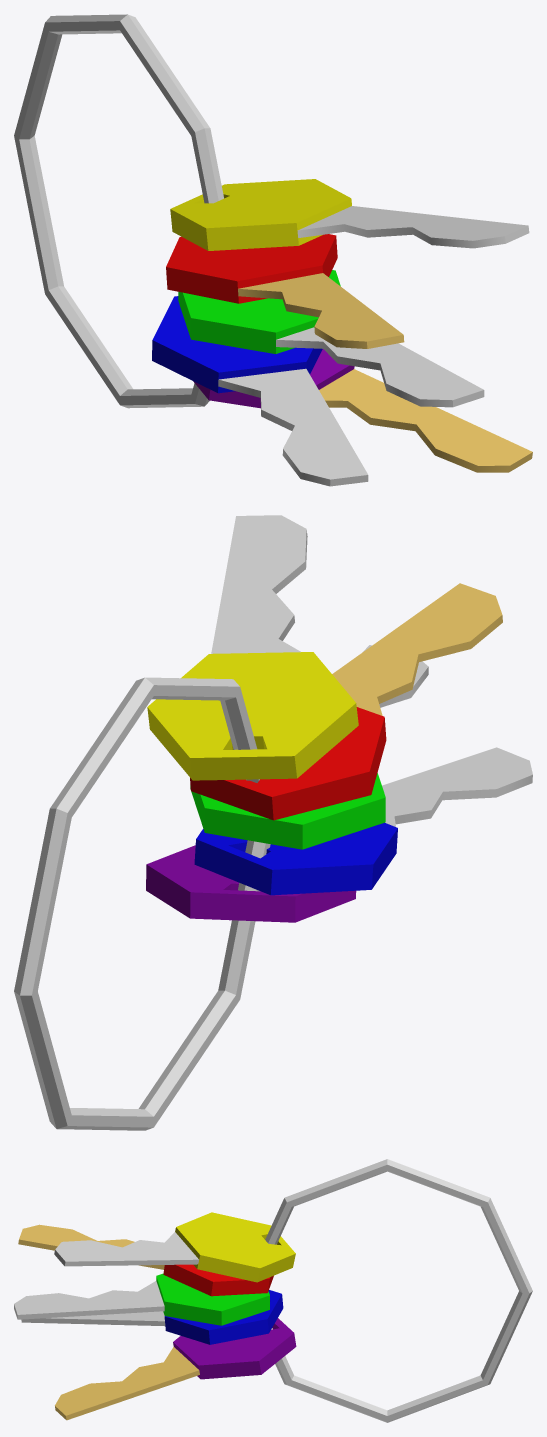
Rendered from Keys.fbx.
3 renders of one model, top to bottom at view 1: azimuth 30°, elevation 25°; view 2: azimuth 150°, elevation 25°; view 3: azimuth 270°, elevation 25°, orthographic. The views are drawn at different scales.
Parts seen in each view (by area): view 1: pTorus1, pCylinder4, pCylinder2, pCylinder3, pCylinder1, pCylinder5; view 2: pCylinder4, pTorus1, pCylinder3, pCylinder2, pCylinder5, pCylinder1; view 3: pCylinder4, pTorus1, pCylinder5, pCylinder1, pCylinder2, pCylinder3.
Part boxes in pixels (left/top/right/bottom): pTorus1: left=14, top=14, right=223, bottom=408; pCylinder4: left=170, top=179, right=529, bottom=250; pCylinder2: left=152, top=296, right=368, bottom=486; pCylinder3: left=166, top=234, right=404, bottom=348; pCylinder1: left=178, top=270, right=484, bottom=407; pCylinder5: left=193, top=349, right=532, bottom=472; pCylinder4: left=147, top=515, right=358, bottom=780; pTorus1: left=14, top=677, right=270, bottom=1130; pCylinder3: left=190, top=583, right=502, bottom=820; pCylinder2: left=194, top=747, right=532, bottom=895; pCylinder5: left=146, top=845, right=356, bottom=922; pCylinder1: left=190, top=645, right=428, bottom=849; pCylinder4: left=54, top=1212, right=295, bottom=1282; pTorus1: left=265, top=1159, right=532, bottom=1422; pCylinder5: left=55, top=1318, right=296, bottom=1420; pCylinder1: left=14, top=1273, right=269, bottom=1325; pCylinder2: left=21, top=1290, right=283, bottom=1344; pCylinder3: left=18, top=1224, right=273, bottom=1296.
Size of the model in its own units: 6.36 by 9.48 by 16.9.
